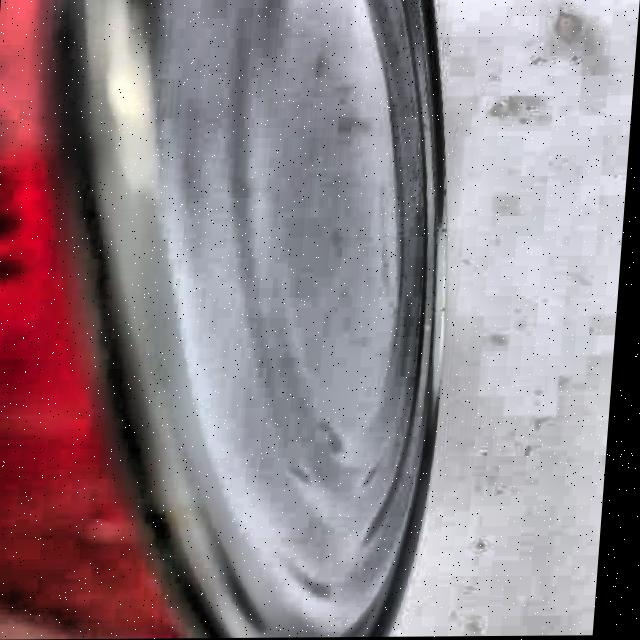metal: (0, 0, 476, 640)
